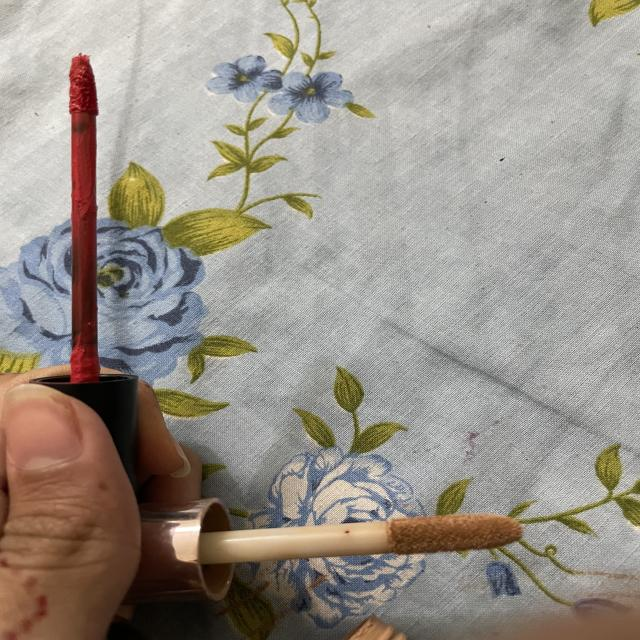concealer: (127, 494, 551, 598)
lip gloss: (17, 37, 147, 459)
